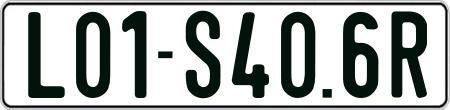0: (281, 11, 315, 100), (74, 12, 109, 98)
1: (122, 10, 152, 102)
4: (232, 12, 275, 101)
6: (340, 12, 378, 101)
L: (28, 11, 69, 99)
R: (392, 9, 432, 101)
S: (186, 8, 226, 101)
